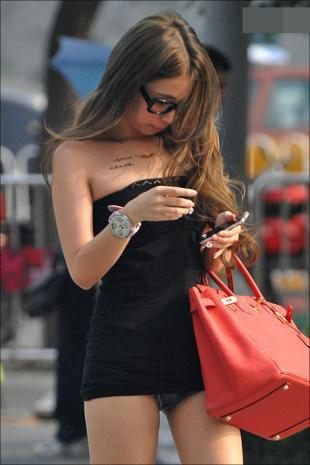no_mask: (105, 8, 223, 142)
